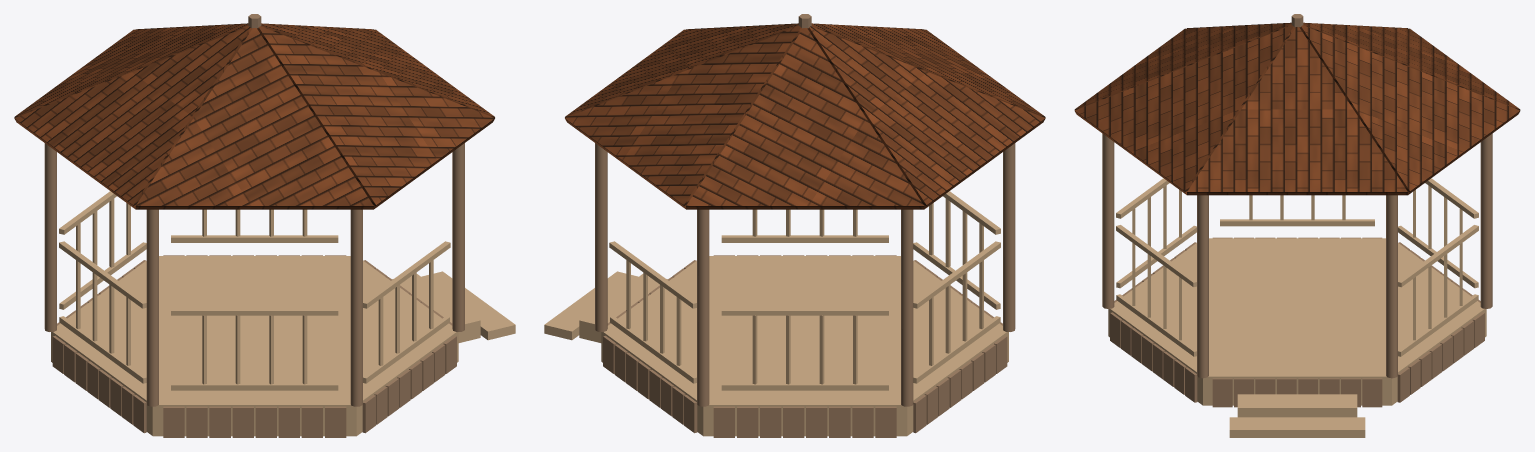
Rendered from Gazebo.fbx.
3 renders of one model, left to right at view 1: azimuth 30°, elevation 25°; view 2: azimuth 150°, elevation 25°; view 3: azimuth 270°, elevation 25°, orthographic. The views are drawn at different scales.
Visible parts, largest first — view 1: LOD0; view 2: LOD0; view 3: LOD0.
Part boxes in pixels (box(x1,y1,x2,y2)): LOD0: box(14, 14, 515, 437); LOD0: box(544, 14, 1045, 437); LOD0: box(1074, 14, 1520, 437).
Size of what is drawn, in the model's own units: 436 by 355 by 448.
